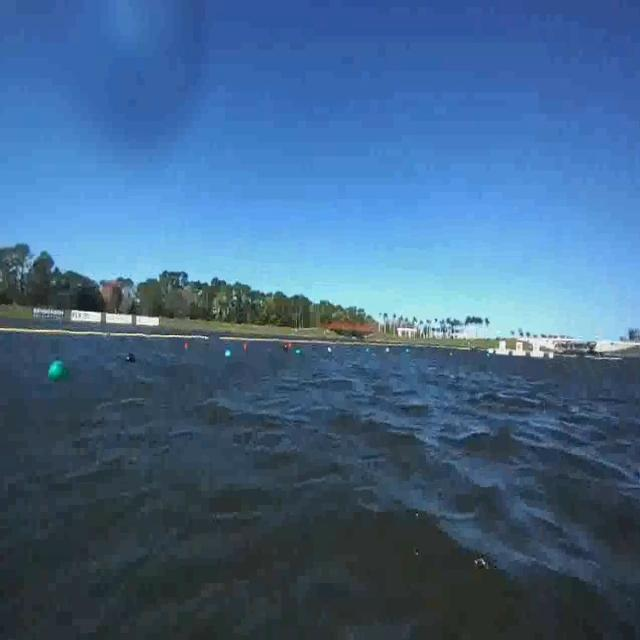green-buoy: (51, 359, 69, 381), (224, 349, 230, 359)
